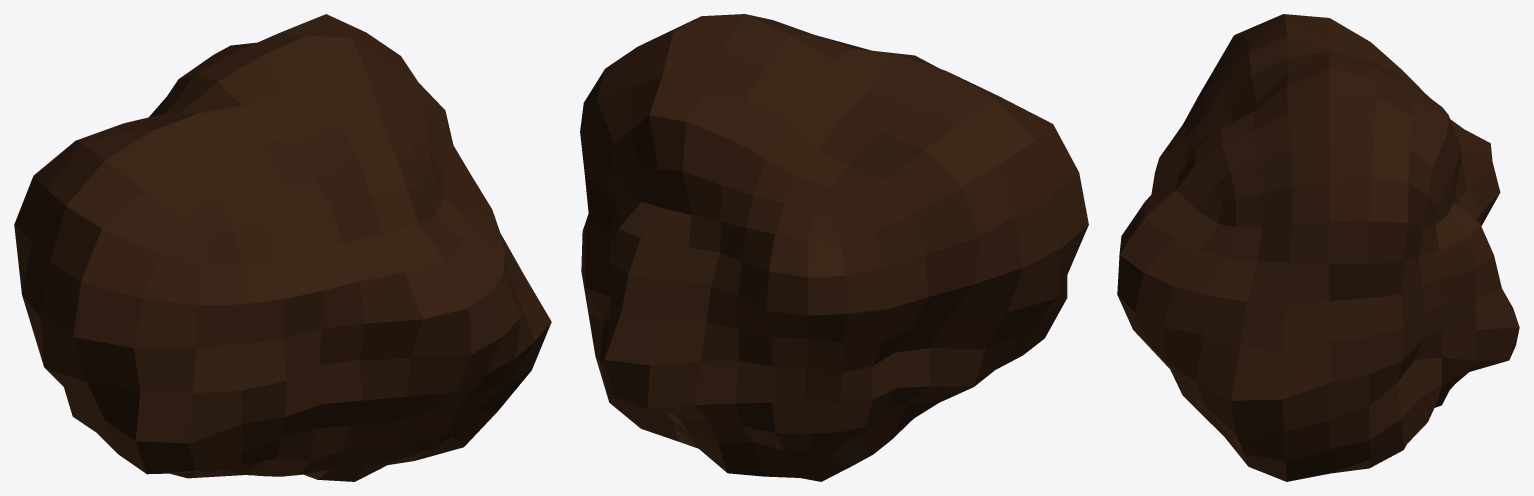
Rendered from Asteroid1.fbx.
3 views of the same model, side by side, from view 1: azimuth 30°, elevation 25°; view 2: azimuth 150°, elevation 25°; view 3: azimuth 270°, elevation 25° (orthographic). The views are drawn at different scales.
Parts seen in each view (by area): view 1: Asteroid1; view 2: Asteroid1; view 3: Asteroid1.
Part boxes in pixels (x1,y1,x2,y2): Asteroid1: [14, 14, 551, 481]; Asteroid1: [580, 14, 1088, 481]; Asteroid1: [1117, 14, 1519, 481].
Size of the model in its own units: 3858 by 3288 by 3193.
